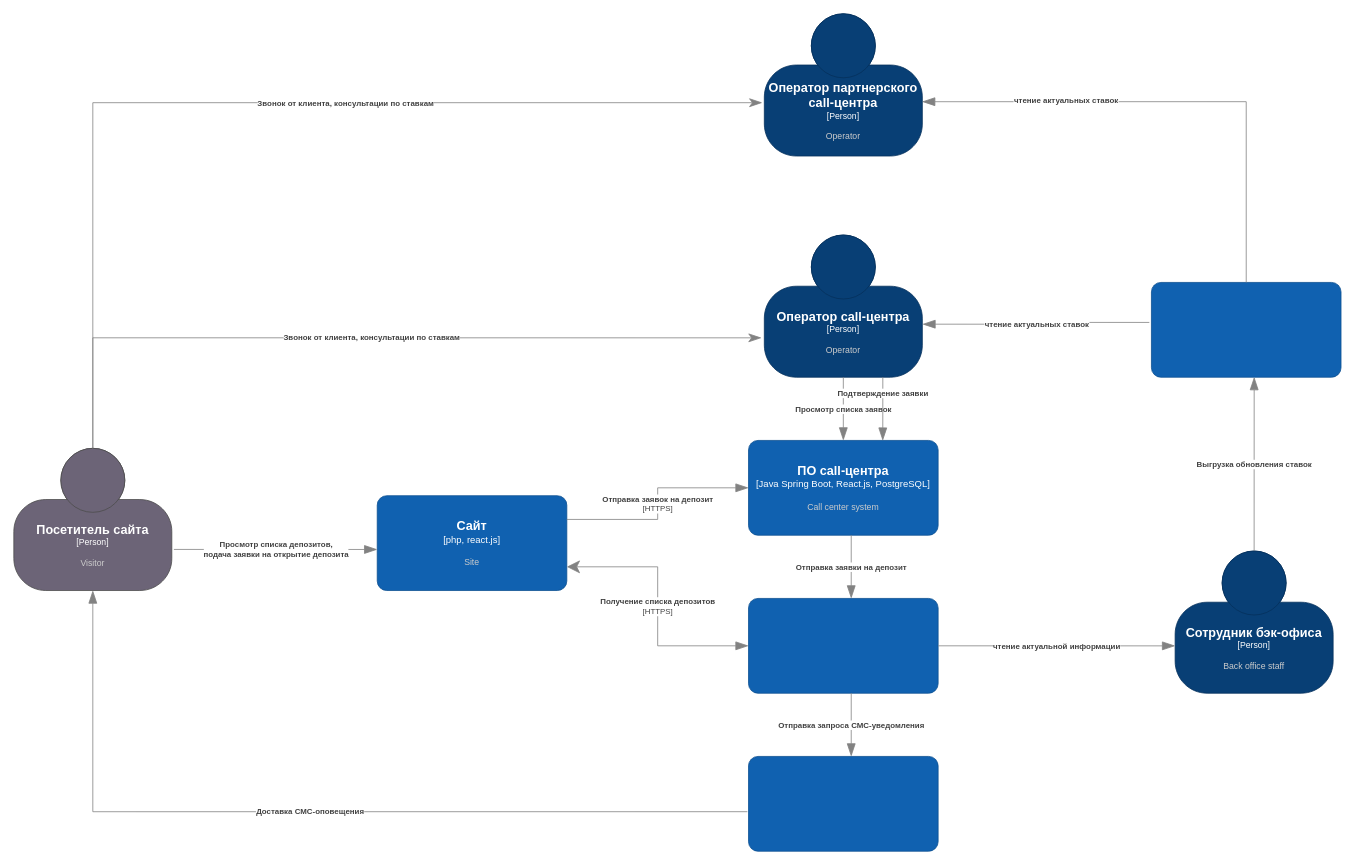
The diagram is 1355 pixels wide and 865 high, and some of its shapes have lost their labels. Each missing label, with the centre of its shape:
"АБС [Delphi, Oracle] ABS" goes at pixel 843 645.
"Общая папка со ставками [S3-based file storage] Shared Folder" goes at pixel 1246 329.
"СМС-шлюз [нд] СМС-шлюз" goes at pixel 843 803.
